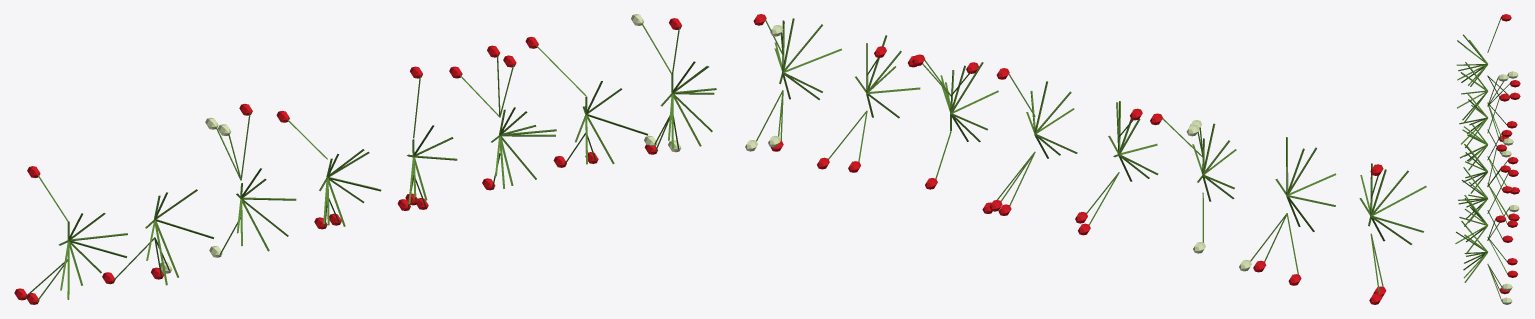
File: r30c4_rest.obj
3 renders of one model, left to right at view 1: azimuth 30°, elevation 25°; view 2: azimuth 150°, elevation 25°; view 3: azimuth 270°, elevation 25°, orthographic. The views are drawn at different scales.
Parts seen in each view (by area): view 1: r30c4_rest; view 2: r30c4_rest; view 3: r30c4_rest.
Boxes of the visible parts, <box> form: r30c4_rest: <box>14,14,716,304</box>; r30c4_rest: <box>745,14,1426,304</box>; r30c4_rest: <box>1455,14,1520,304</box>.
Bounding box in the file's own units: 1.92 × 0.4056 × 0.2575.
